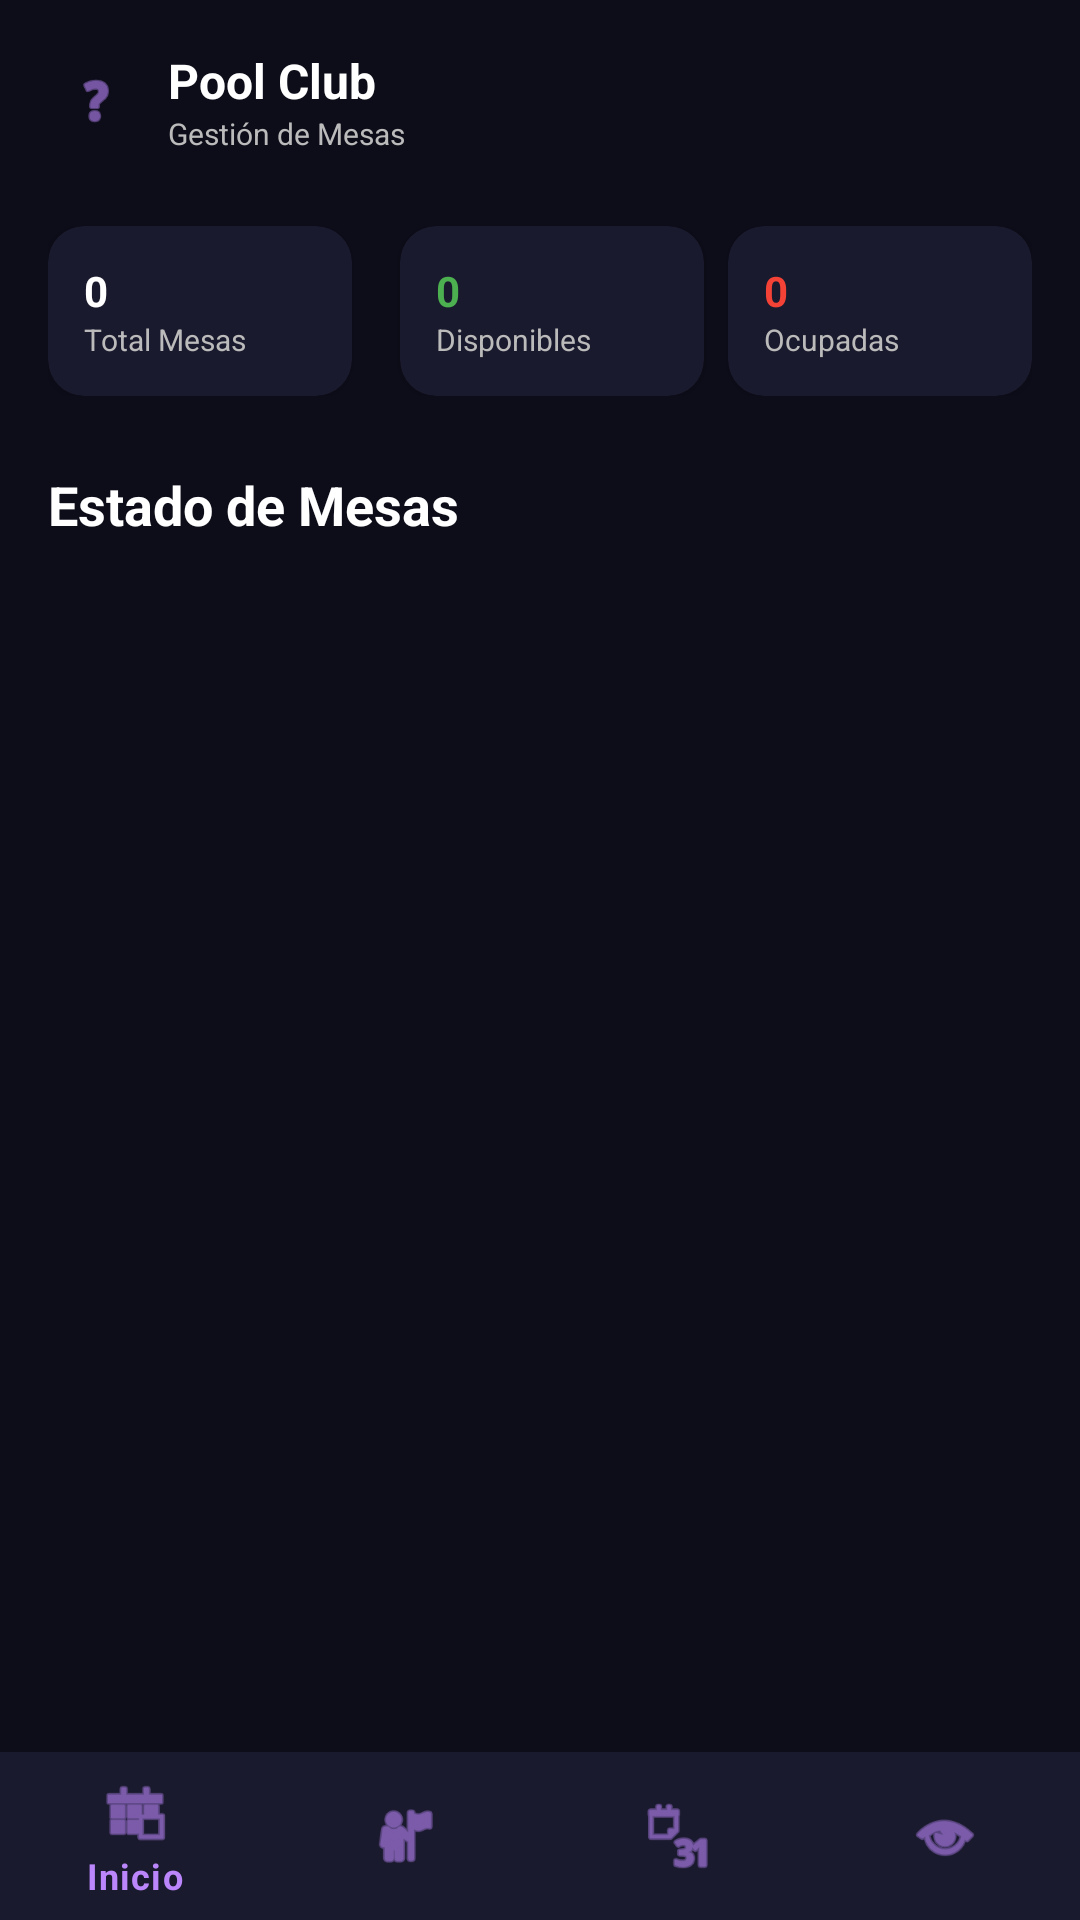

Icons on this 1080w x 1920h Android screen, each with its box as bbox(x1, y1, x2, y2):
help: bbox(83, 79, 109, 123)
